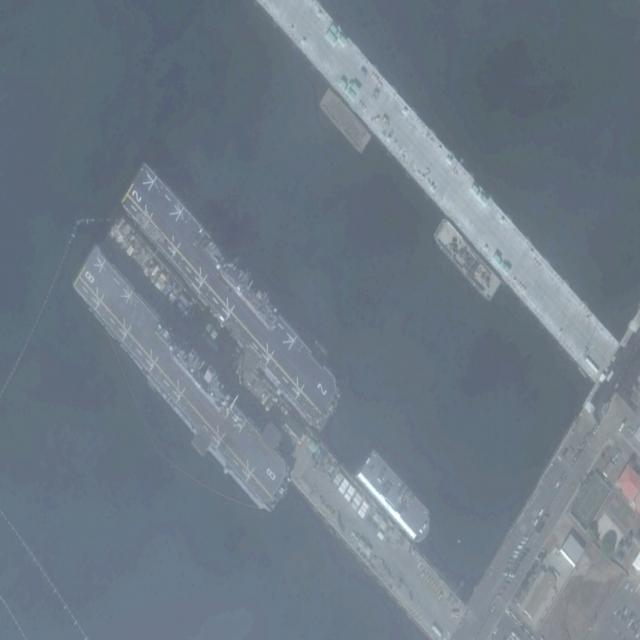Landing: (62, 227, 305, 529), (111, 148, 354, 447)
